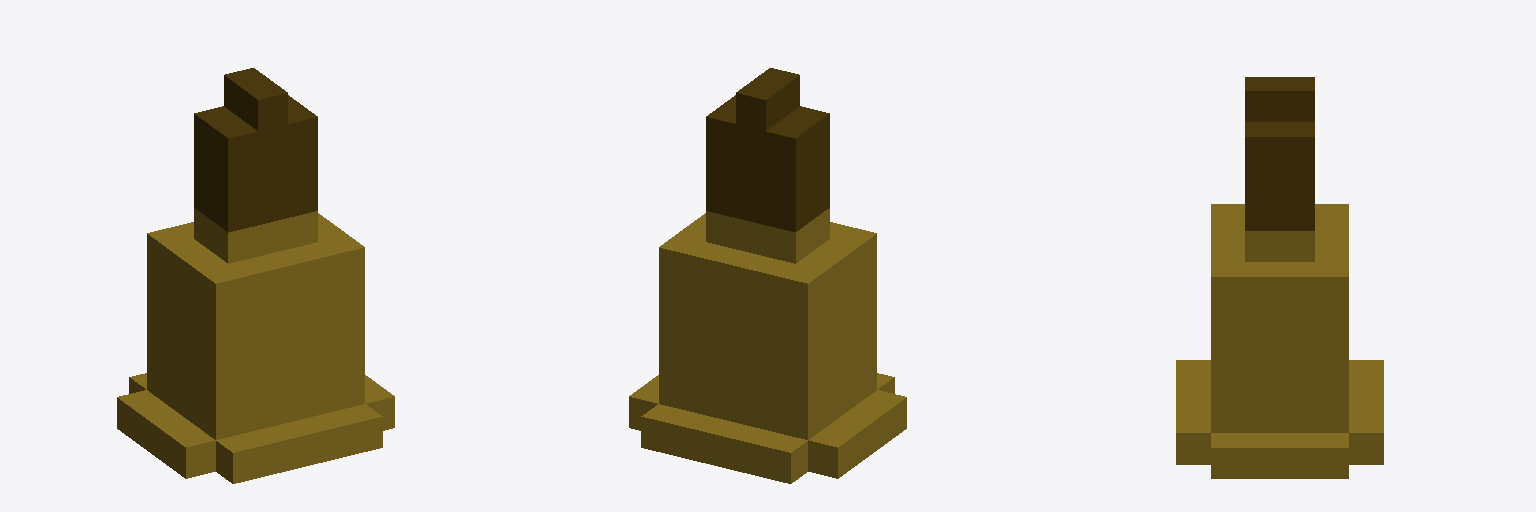
3 renders of one model, left to right at view 1: azimuth 30°, elevation 25°; view 2: azimuth 150°, elevation 25°; view 3: azimuth 270°, elevation 25°, orthographic.
Visible parts, largest first — view 1: object 1; view 2: object 1; view 3: object 1.
Part boxes in pixels (x1,y1,x2,y2): object 1: (117, 68, 394, 483); object 1: (629, 68, 906, 483); object 1: (1176, 77, 1383, 478).
Size of the model in its own units: 0.7 by 1.1 by 0.6.
Materials: 1 (1 with a texture image).